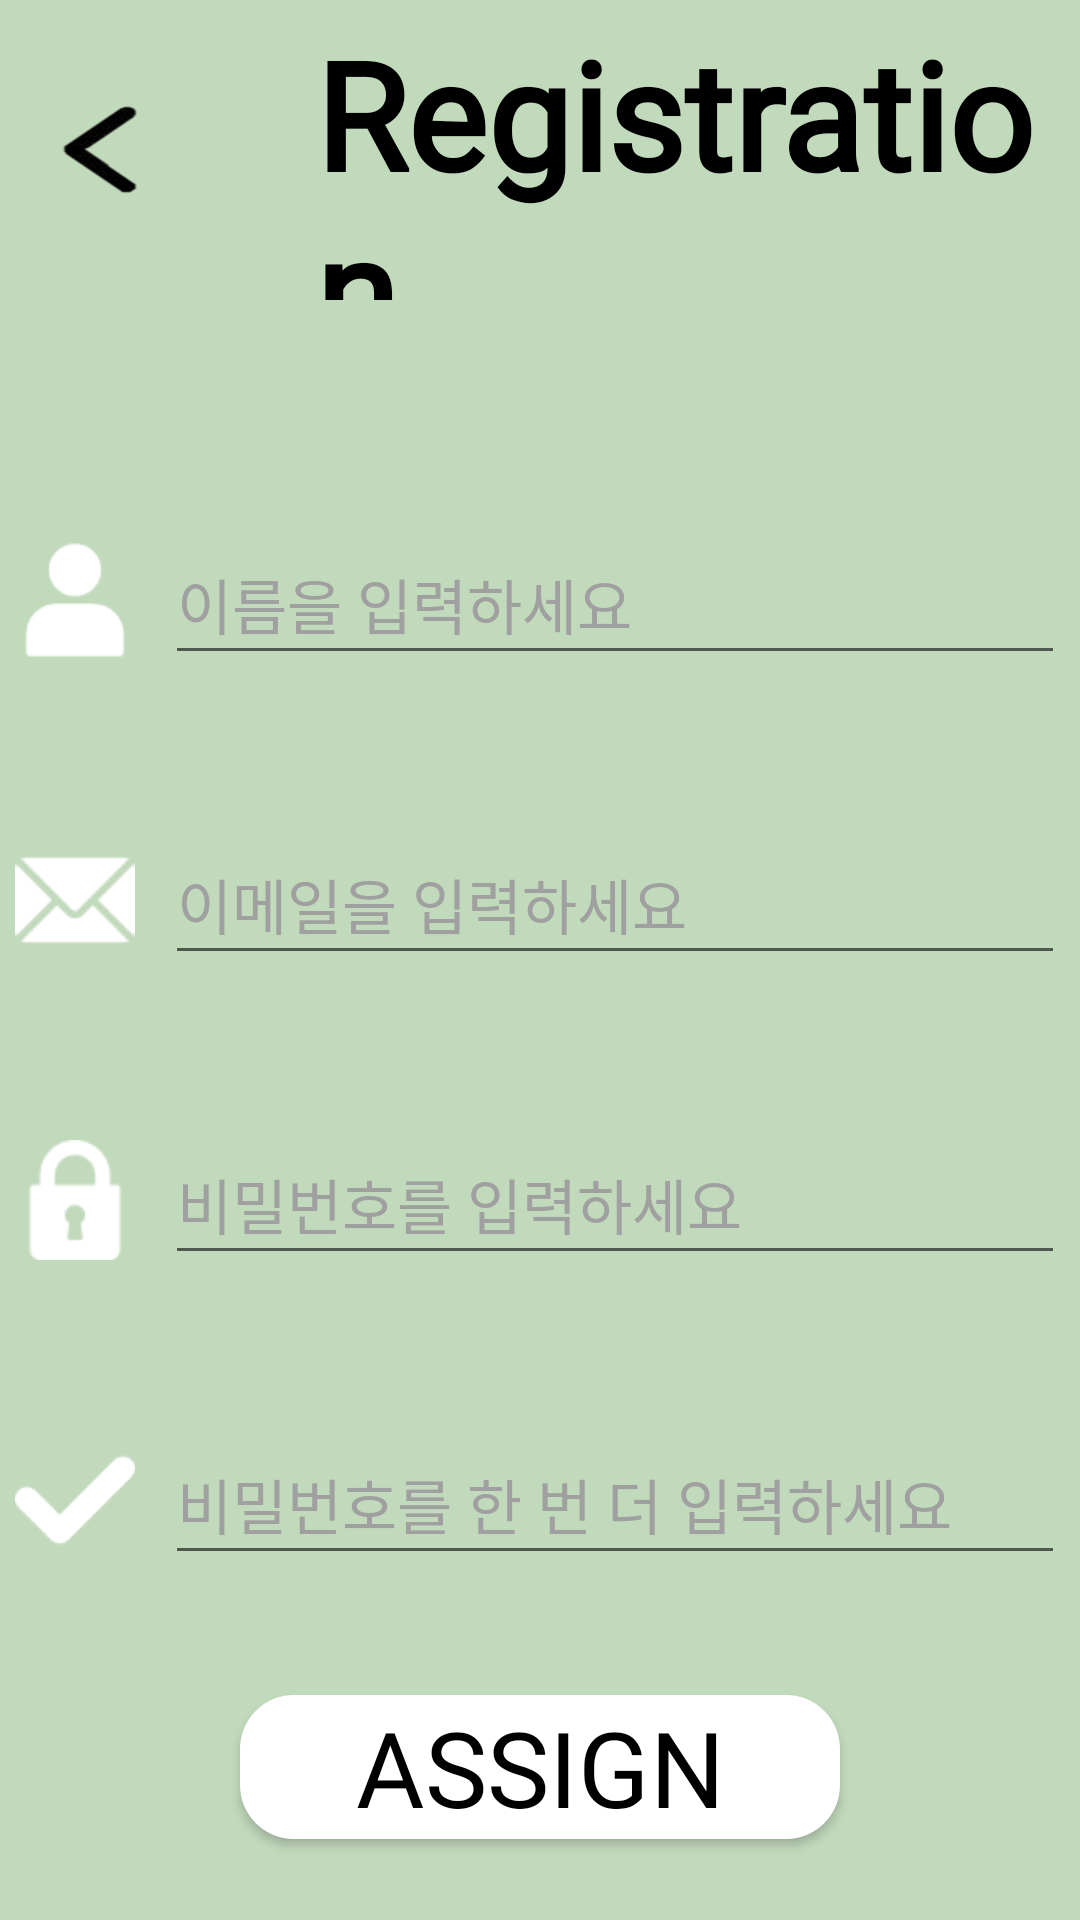

Icon bounding boxes for this 1080×1920 phone screenshot, format (x1, y1, x2, y2):
email: (15, 858, 135, 942)
passcheck: (15, 1456, 135, 1544)
password: (29, 1140, 121, 1260)
toleft: (63, 106, 137, 193)
